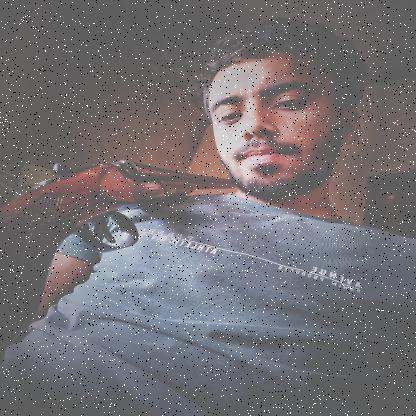rifle: (0, 157, 241, 344)
